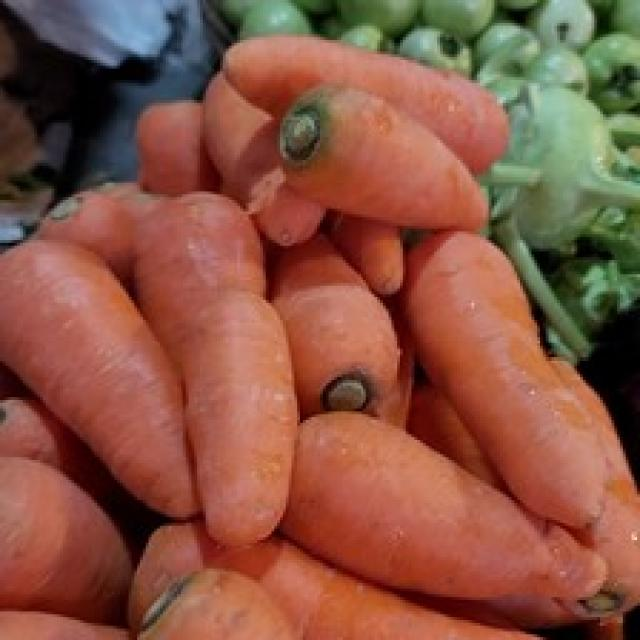Fresh_Carrot: (25, 190, 536, 602)
